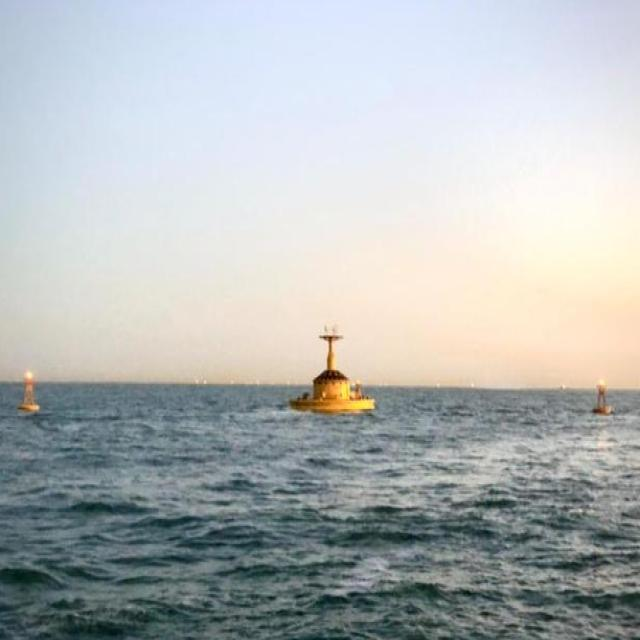buoy: (289, 317, 378, 412), (17, 369, 38, 416), (593, 380, 614, 420)
